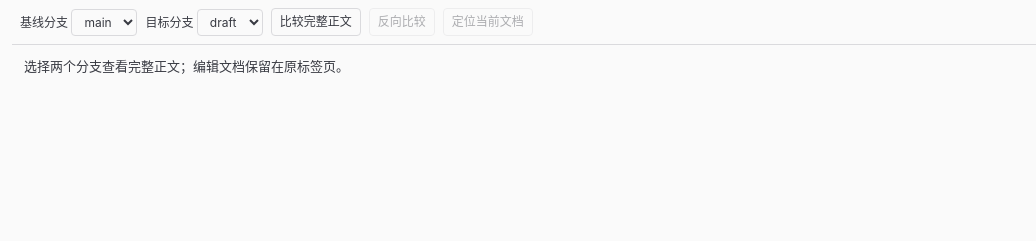
Test: 无差异、读取错误都有明确结果，退出会取消本次正文读取
Click the button "比较完整正文" at (316, 22), box [271,8,361,36]
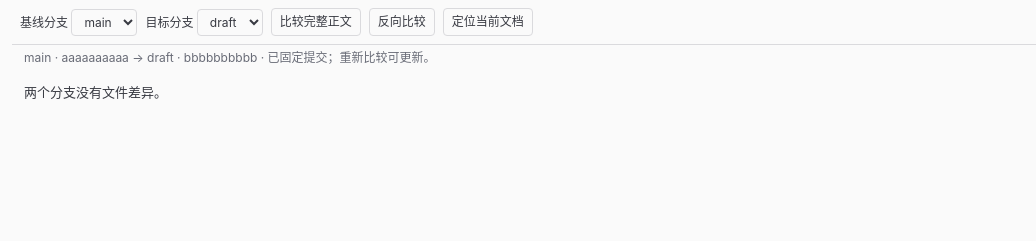
Now the text "两个分支没有文件差异。" is shown, box [24,84,167,100]
Click the button "比较完整正文" at (316, 22), box [271,8,361,36]
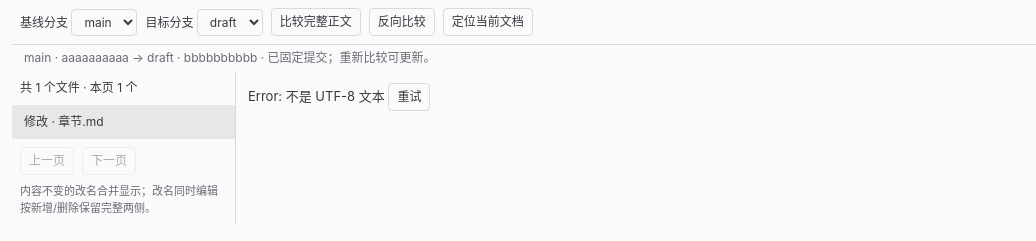
Now the message "Error: 不是 UTF-8 文本 重试" is shown, box [248,83,430,111]
Now the message shows "不是 UTF-8 文本", box [248,88,385,104]
